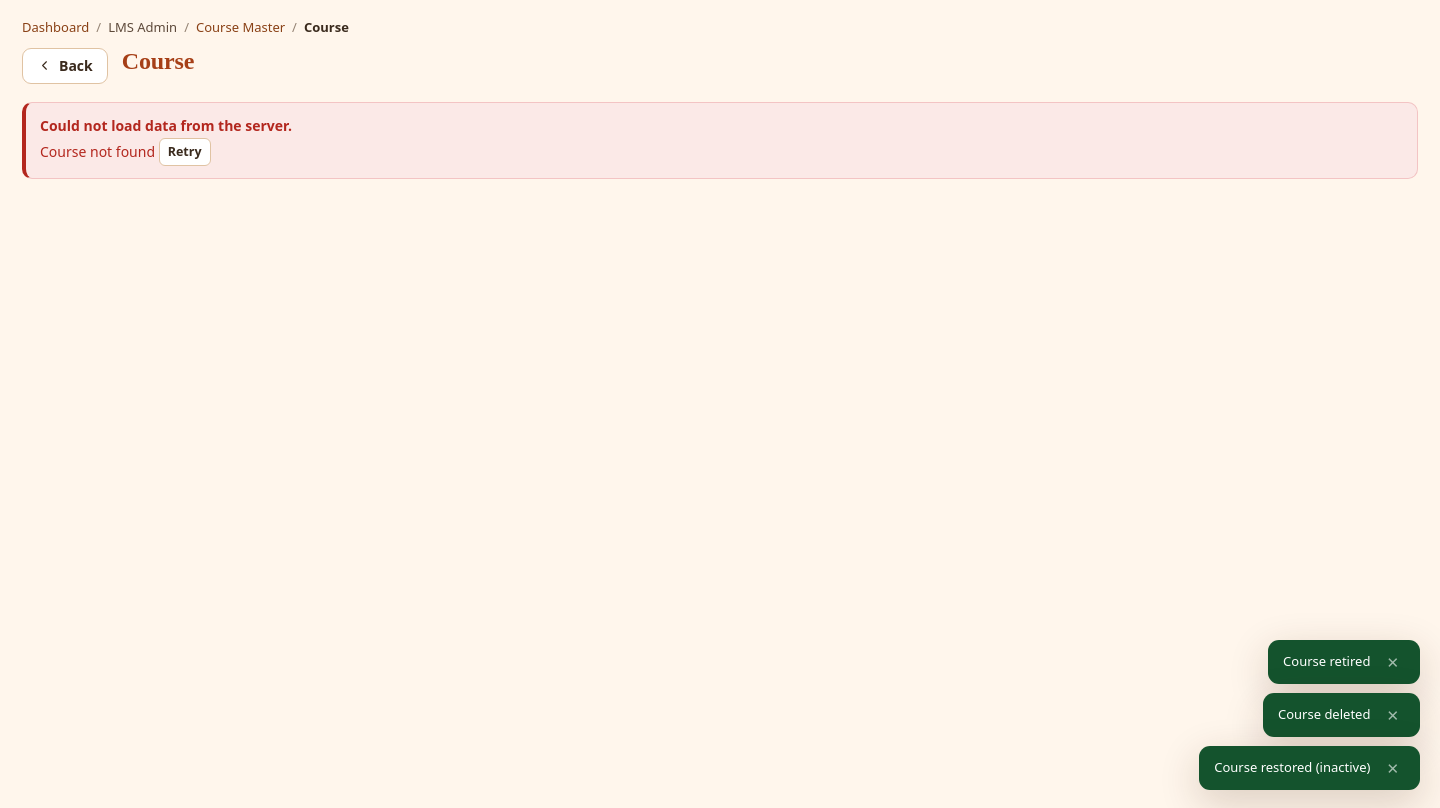
Scenario: <CourseView> › shows an error with a working Retry
Expected: the text "Could not load data from the server. Course not found Retry" is shown, [40, 114, 292, 166]
Click the button "Retry".
click(185, 152)  # box [159, 138, 211, 166]
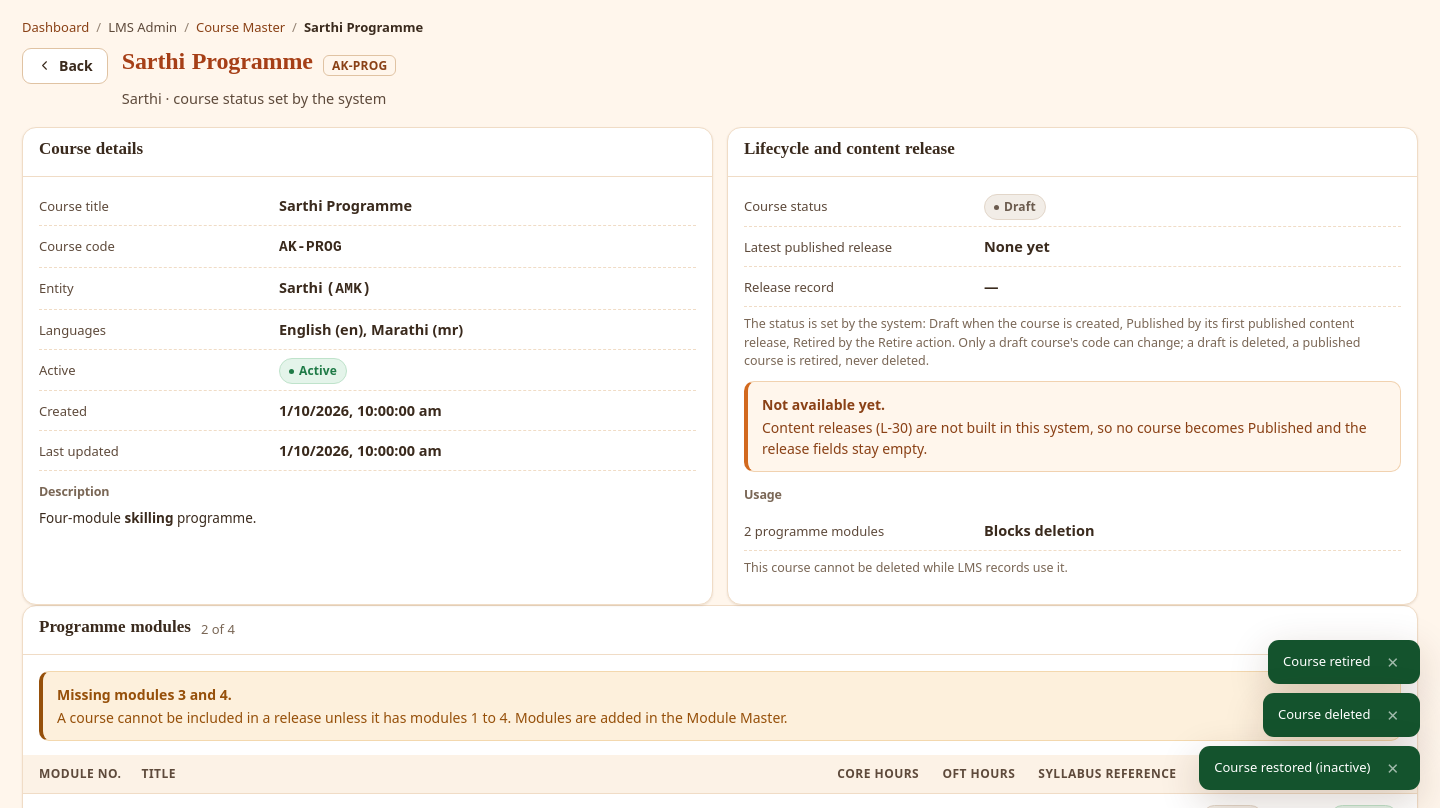
Expected: the heading "Sarthi Programme AK-PROG" is shown, [122, 46, 396, 84]
